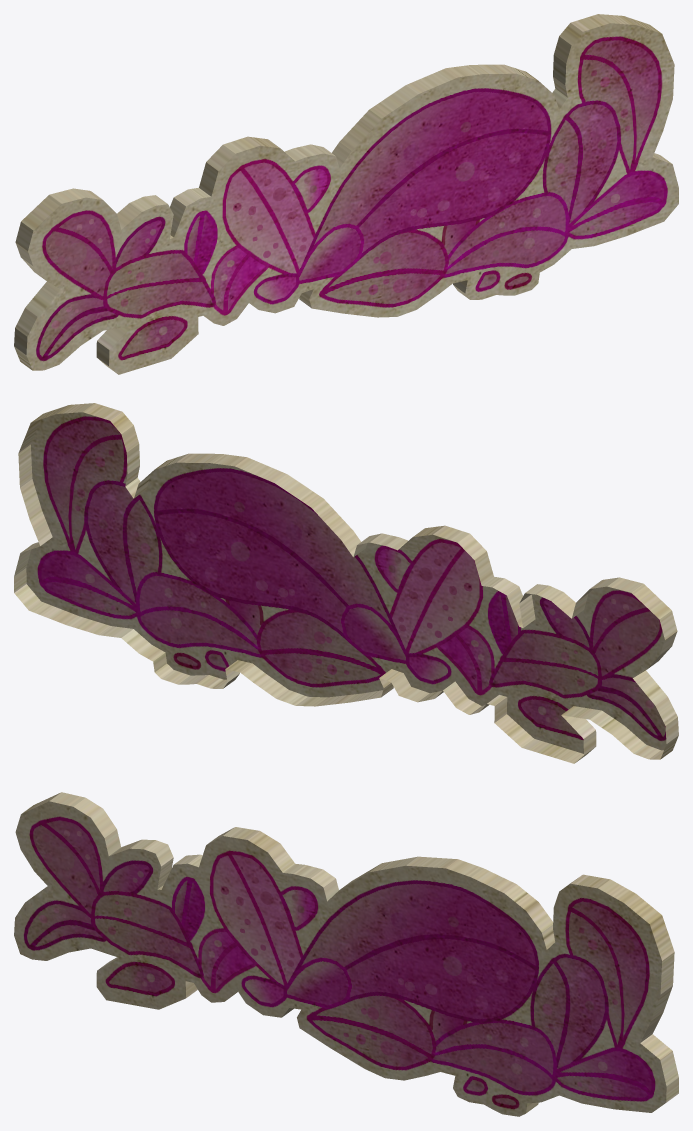
File: plant.FBX
3 views of the same model, one above another, from view 1: azimuth 30°, elevation 25°; view 2: azimuth 150°, elevation 25°; view 3: azimuth 330°, elevation 25° (orthographic).
Parts seen in each view (by area): view 1: Plane01; view 2: Plane01; view 3: Plane01.
Boxes of the visible parts, x1,y1,x2,y2 form: Plane01: [14, 14, 678, 374]; Plane01: [14, 403, 678, 763]; Plane01: [14, 792, 678, 1116].
Bounding box in the file's own units: 98.59 × 35.97 × 3.26.
